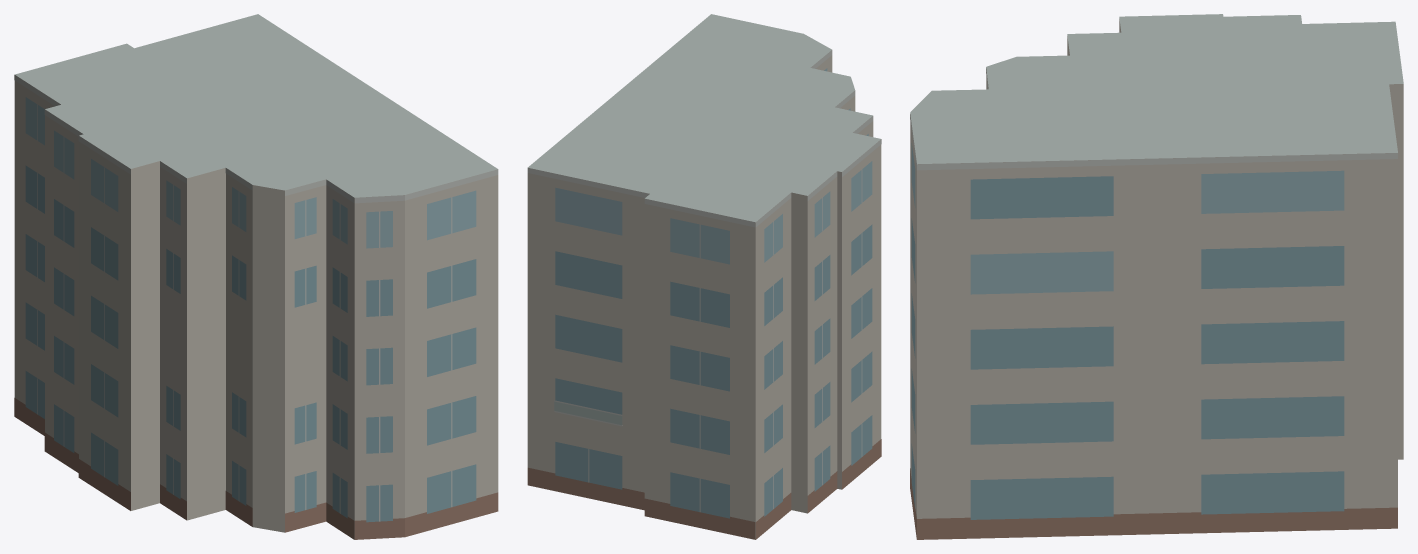
File: survey-upis-32997347.glb
3 renders of one model, left to right at view 1: azimuth 30°, elevation 25°; view 2: azimuth 150°, elevation 25°; view 3: azimuth 270°, elevation 25°, orthographic. The views are drawn at different scales.
Visible parts, largest first — view 1: survey-upis-32997347.tmp; view 2: survey-upis-32997347.tmp; view 3: survey-upis-32997347.tmp.
Boxes of the visible parts, <box> form: survey-upis-32997347.tmp: <box>14,14,498,539</box>; survey-upis-32997347.tmp: <box>527,14,881,539</box>; survey-upis-32997347.tmp: <box>910,14,1403,539</box>.
Size of the model in its own units: 12.61 by 14.7 by 17.51.
